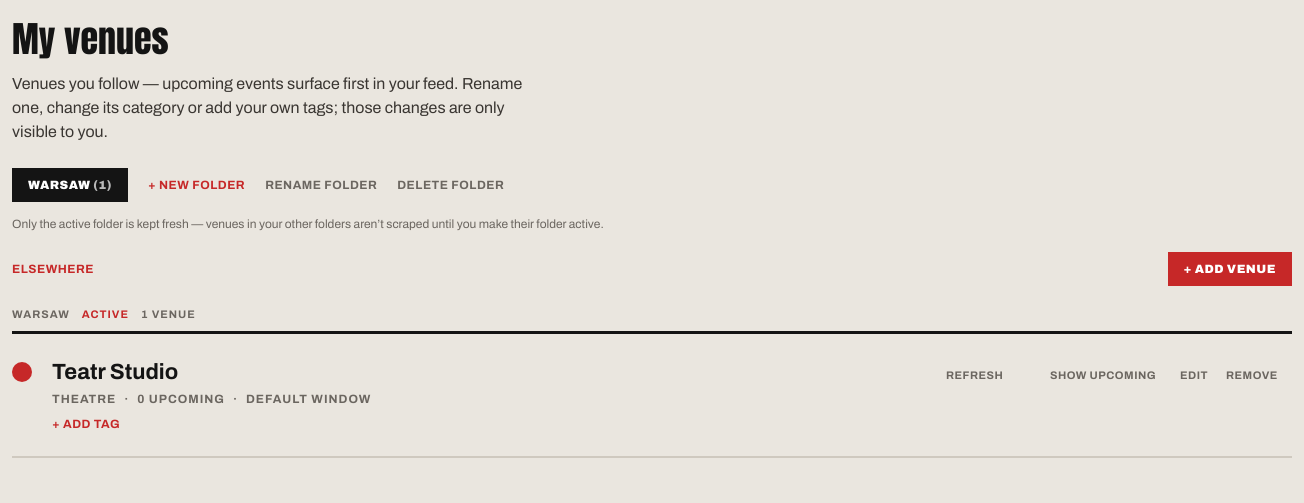
Test: MyVenuesSection — refresh / show upcoming (GOI-75) › points an empty venue at the Refresh button rather than leaving a blank panel
This screenshot has width=1304, height=503.
Click the button "Show upcoming" at (1115, 375), box top-left (1050, 366), bottom-right (1180, 383)
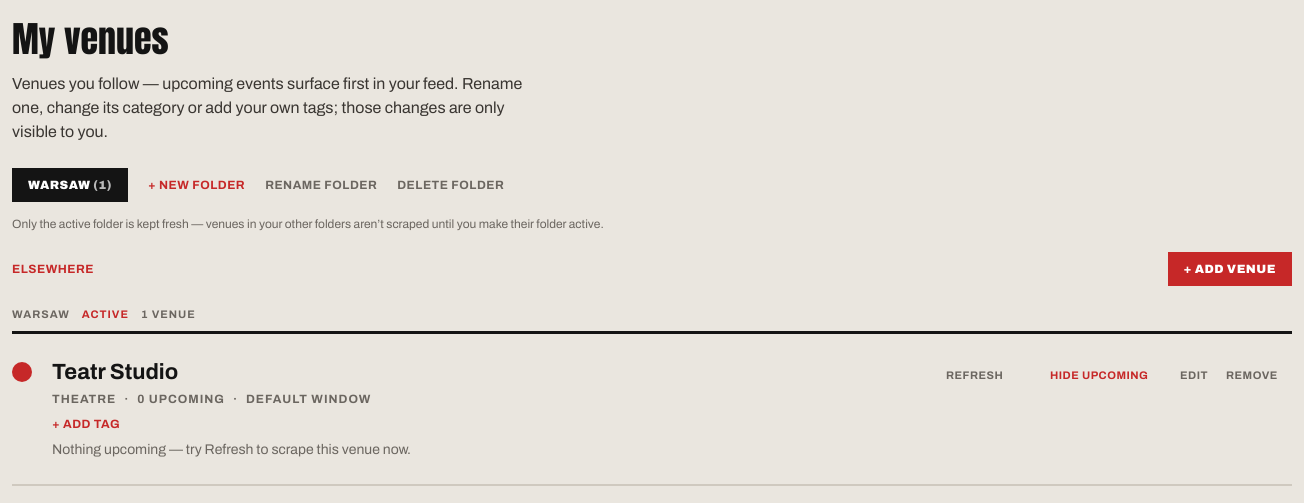
Result: the text "Nothing upcoming — try Refresh to scrape this venue now." is shown at top-left (52, 442), bottom-right (411, 456)
